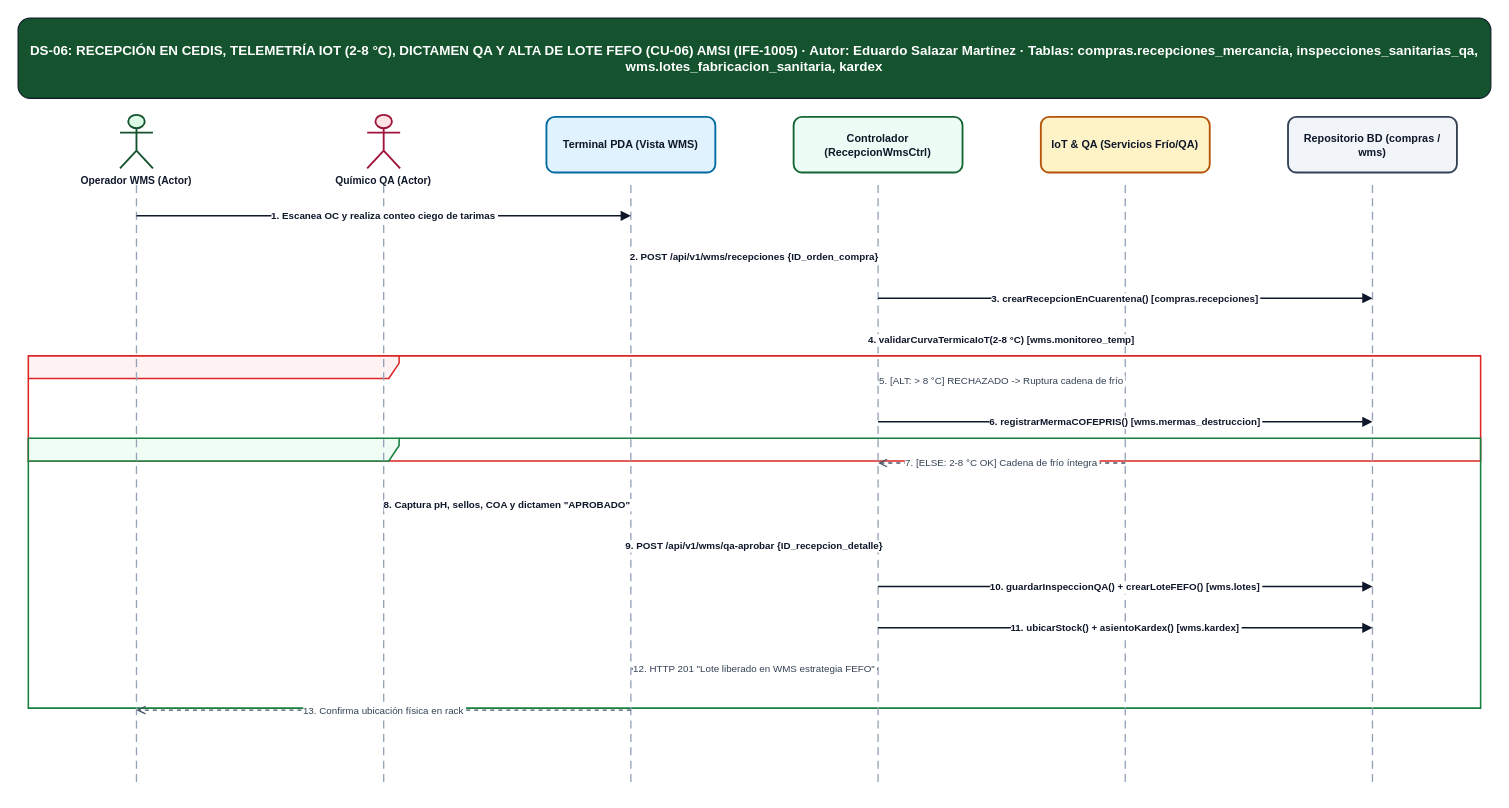
Image size: 1509x808. Some labels were removed from this diagram. Each missing label, with the centre of its shape:
"alt [Excursión Térmica > 8 °C: Cuarentena y Destrucción COFEPRIS]" goes at [754,408].
"else [Cadena de Frío Íntegra + Dictamen QA Aprobado -> Alta FEFO]" goes at [754,572].
